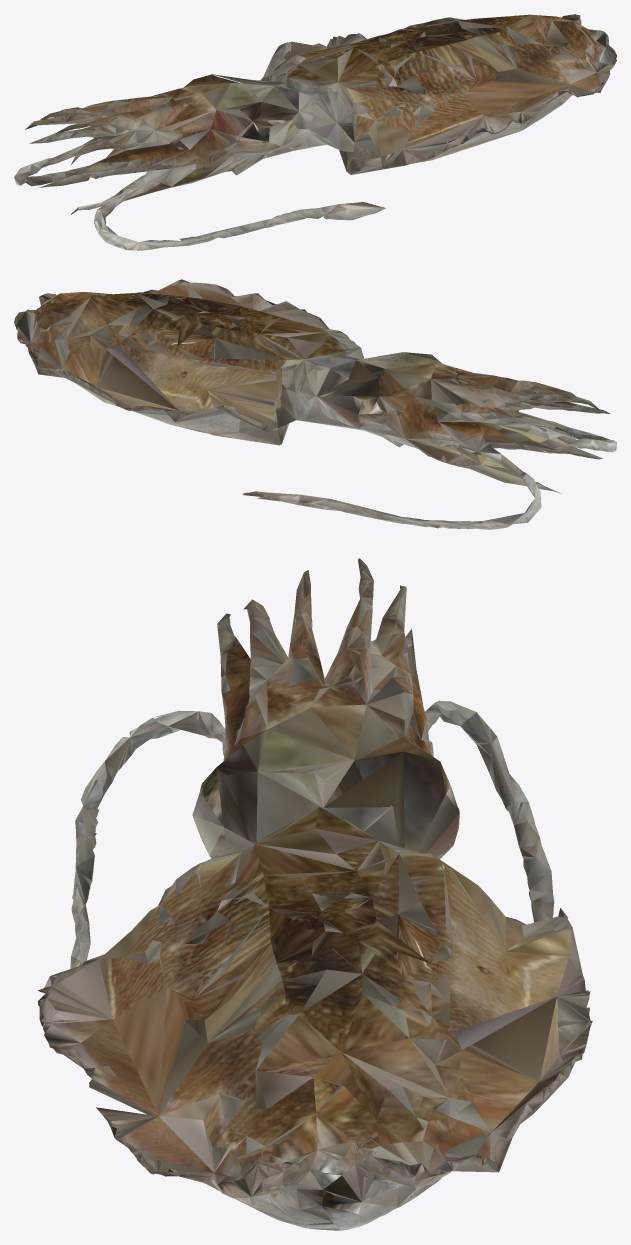
File: cuttlefish.glb
3 views of the same model, one above another, from view 1: azimuth 30°, elevation 25°; view 2: azimuth 150°, elevation 25°; view 3: azimuth 270°, elevation 25° (orthographic). The views are drawn at different scales.
Visible parts, largest first — view 1: body; view 2: body; view 3: body.
Boxes of the visible parts, box(x1,y1,x2,y2) form: body: box(14, 14, 616, 250); body: box(14, 279, 616, 529); body: box(38, 558, 592, 1230).
Size of the model in its own units: 0.9925 by 0.2095 by 0.4305.
2 materials, 2 textured.
